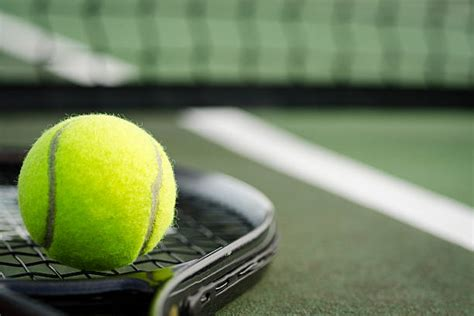tennis_ball: (17, 112, 177, 271)
